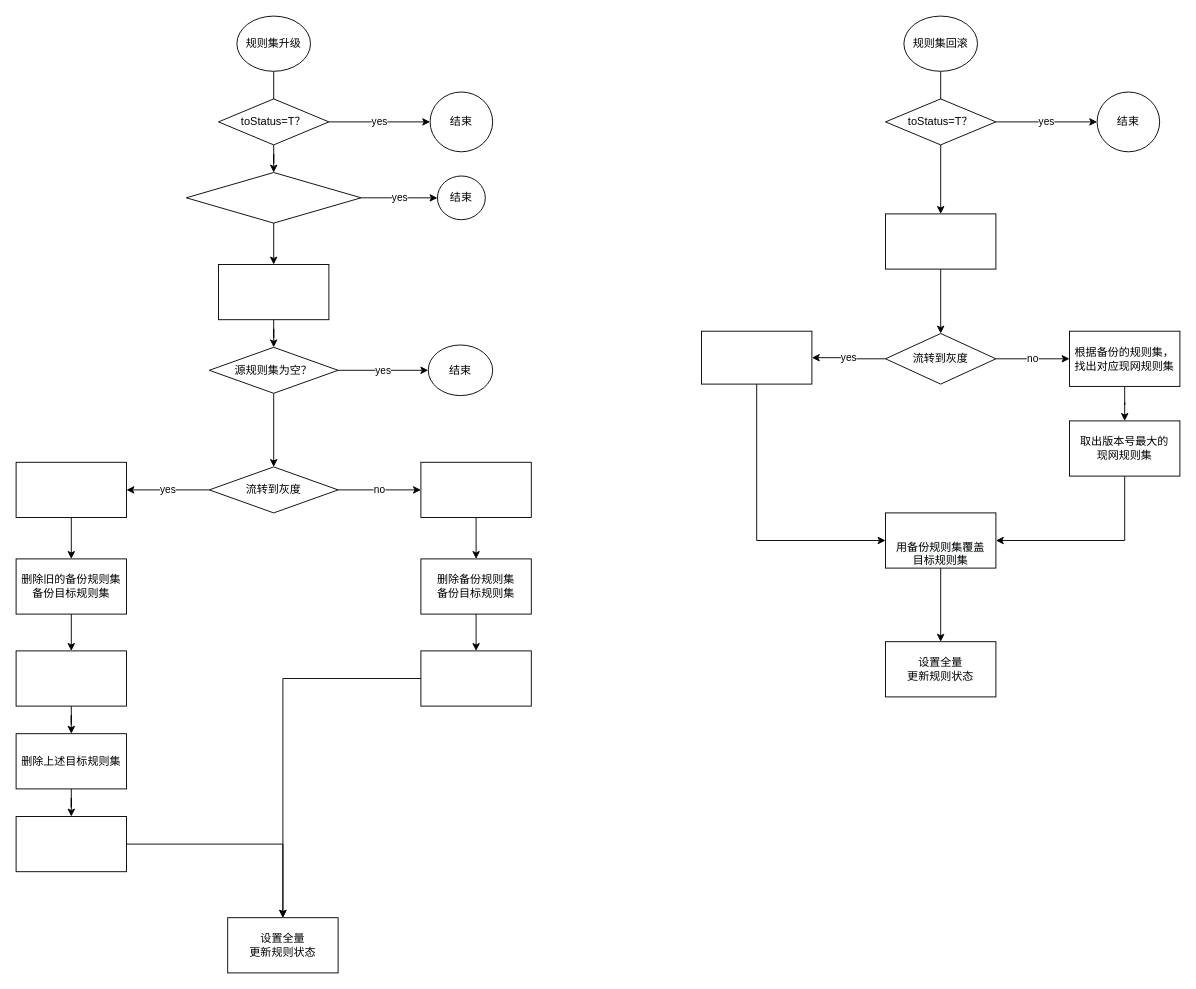
Image size: 1196x989. Some labels were removed from this diagram. The shapes that lost their labels are listed below. From the top down, each one's centre as x and y in pixels, then its label:
At (273,197): "changeCheckerIds为空？".
At (940,241): "找出为status的 备份规则集".
At (273,292): "获取包含changeCheckerIds的源规则".
At (756,357): "删除status=G的规则集".
At (70,489): "根据源规则集id 查出对应目标规则集".
At (475,489): "根据源规则集key， 找出version最大的现网目标规则集".
At (70,678): "把源规则集Version改成G".
At (475,678): "目标规则集version+1".
At (70,844): "保存源规则集".
